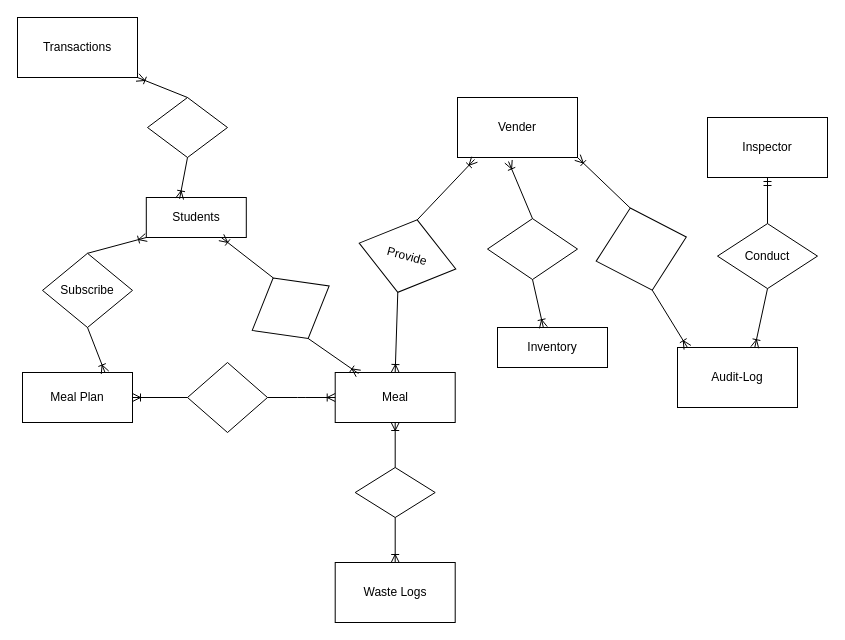
Some shapes in this 845 by 640 pixel diagram are drawn without their labels. The box of each missing label's shape, as (x1, y1, x2, y2) in pixels:
Contain: (186, 362, 268, 432)
Donate: (234, 254, 347, 361)
Generate: (354, 466, 435, 518)
Make: (146, 96, 228, 158)
Manage: (486, 218, 578, 280)
Receive: (584, 195, 697, 302)
